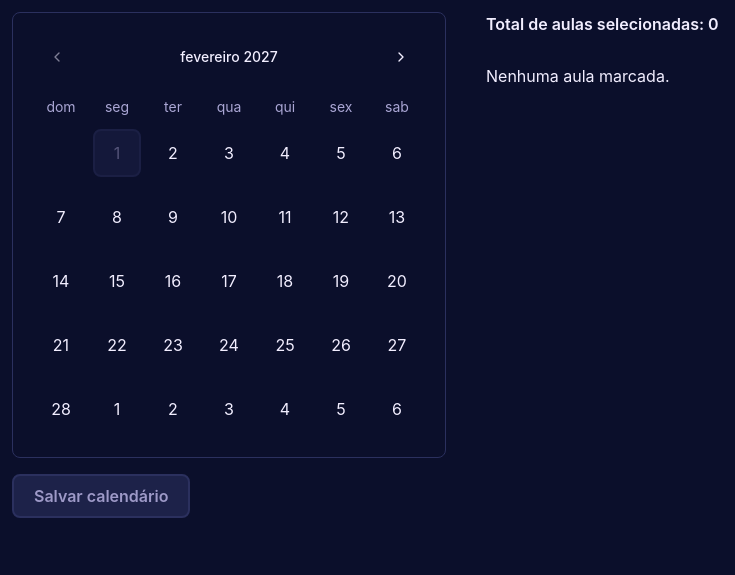
Test case: 004/US4 MeetingCalendar — calendário de encontros da turma › erro da API aparece com o texto do catálogo
Check: the text "Total de aulas selecionadas: 0" is shown, box [486,14,719,34]
Click the 1st button "3".
click(229, 153)  # box [205,129,253,177]
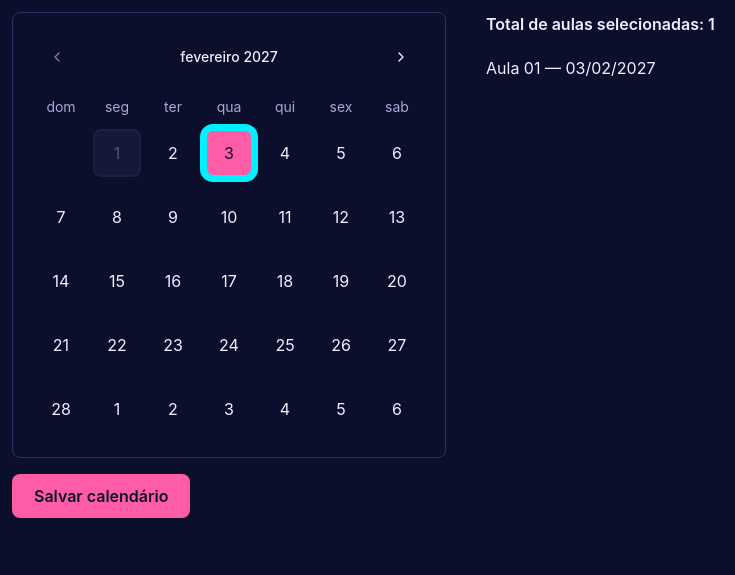
Click the button "Salvar calendário".
click(101, 496)  # box [12,474,190,518]
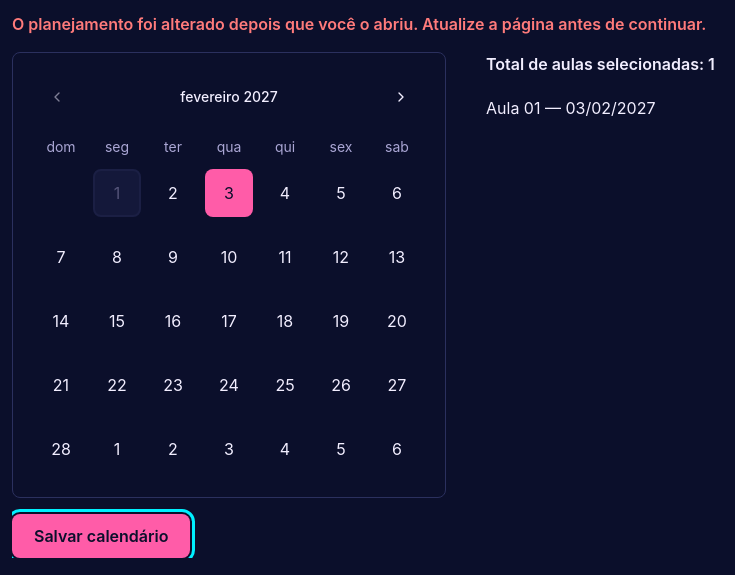
Check: the message shows "O planejamento foi alterado depois que você o abriu. Atualize a página antes de continuar.", box [12,14,706,34]
